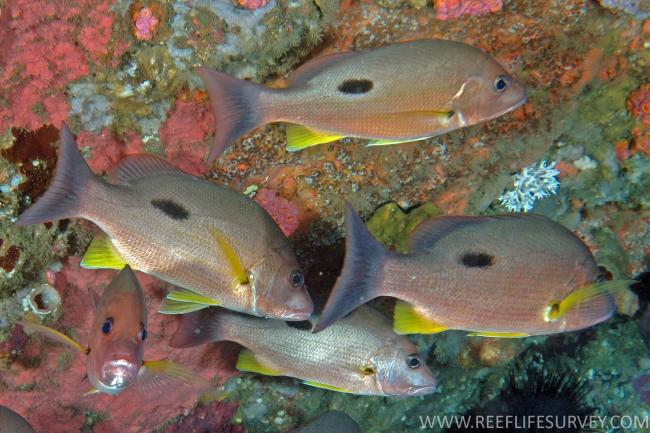fish: (16, 119, 314, 321), (312, 197, 618, 341), (195, 38, 527, 167), (169, 290, 436, 397)
